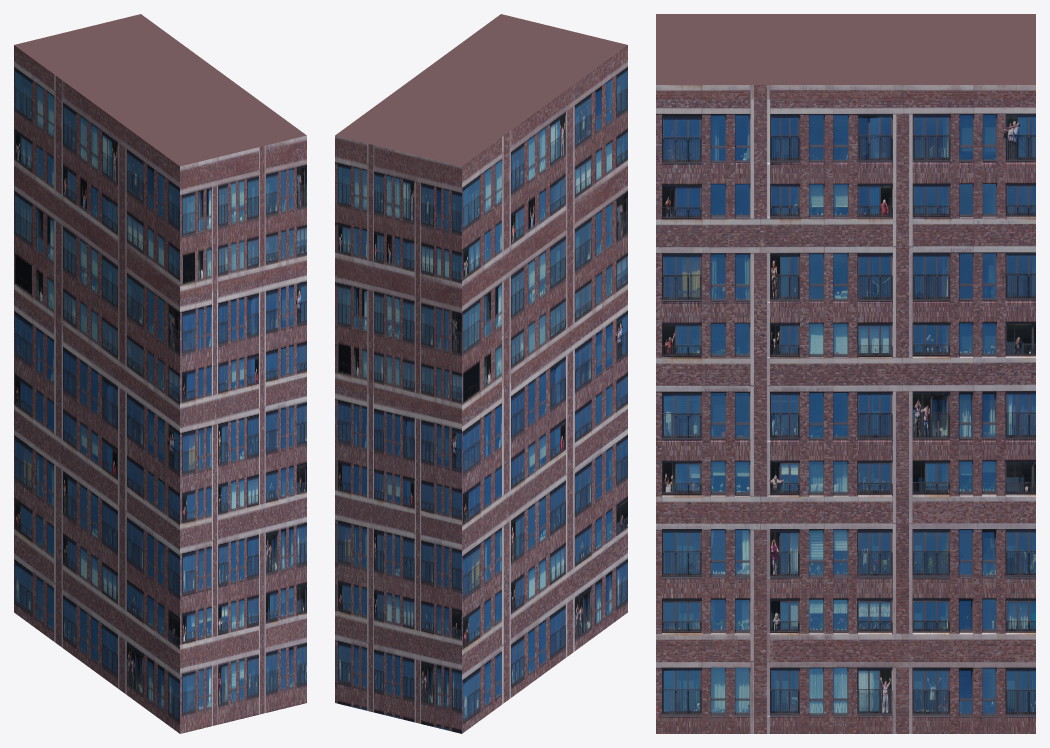
File: 3sky scrapper.fbx
3 renders of one model, left to right at view 1: azimuth 30°, elevation 25°; view 2: azimuth 150°, elevation 25°; view 3: azimuth 270°, elevation 25°, orthographic. The views are drawn at different scales.
Parts seen in each view (by area): view 1: Cube; view 2: Cube; view 3: Cube.
Boxes of the visible parts, x1,y1,x2,y2 form: Cube: [14, 14, 306, 733]; Cube: [335, 14, 627, 733]; Cube: [656, 14, 1035, 733].
Bounding box in the file's own units: 5108 × 21820 × 11571.
